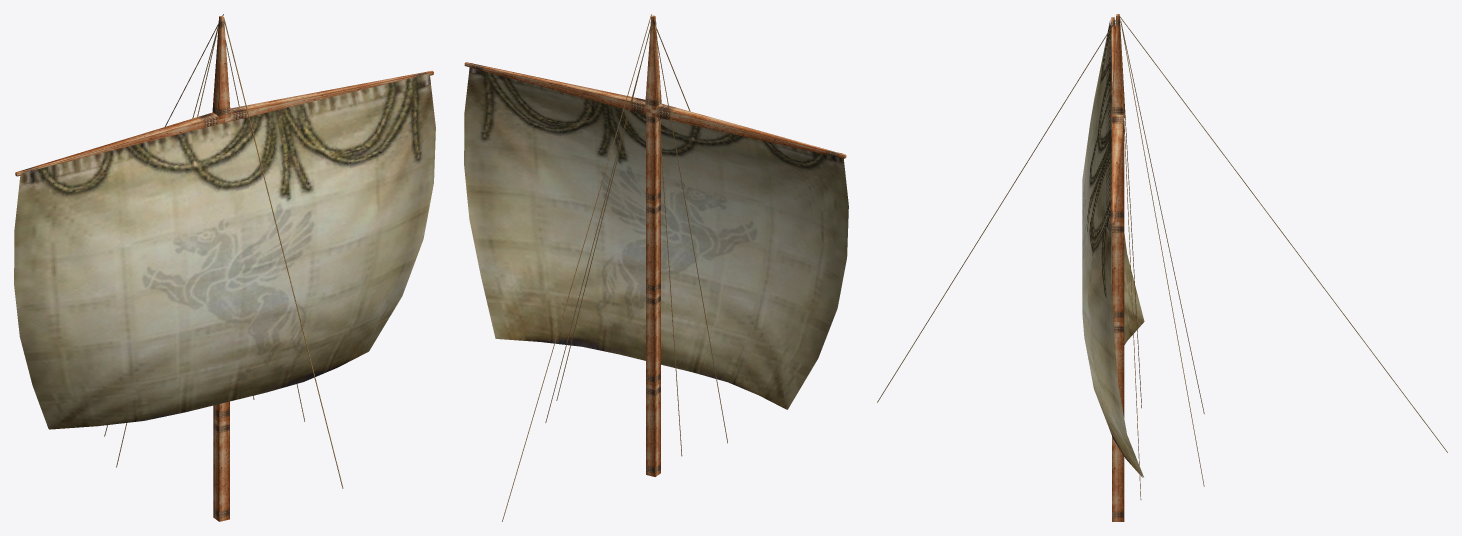
Rendered from kyrenia_sail.dae.
3 views of the same model, side by side, from view 1: azimuth 30°, elevation 25°; view 2: azimuth 150°, elevation 25°; view 3: azimuth 270°, elevation 25° (orthographic). The views are drawn at different scales.
Visible parts, largest first — view 1: Plane_001; view 2: Plane_001; view 3: Plane_001.
Part boxes in pixels (x1,y1,x2,y2): Plane_001: (14, 14, 435, 521); Plane_001: (464, 14, 848, 521); Plane_001: (877, 14, 1447, 521).
Size of the model in its own units: 16.06 by 18.37 by 18.77.
